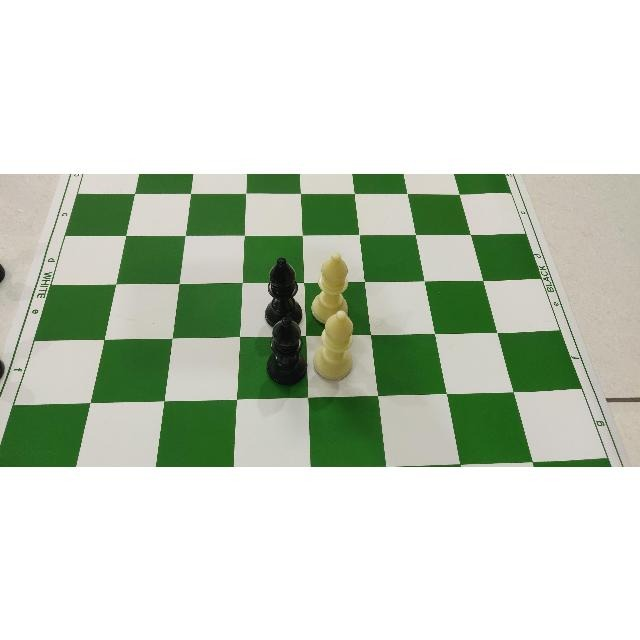black-bishop: (262, 250, 298, 328), (264, 316, 304, 384)
white-bishop: (312, 308, 356, 380), (313, 249, 349, 327)
